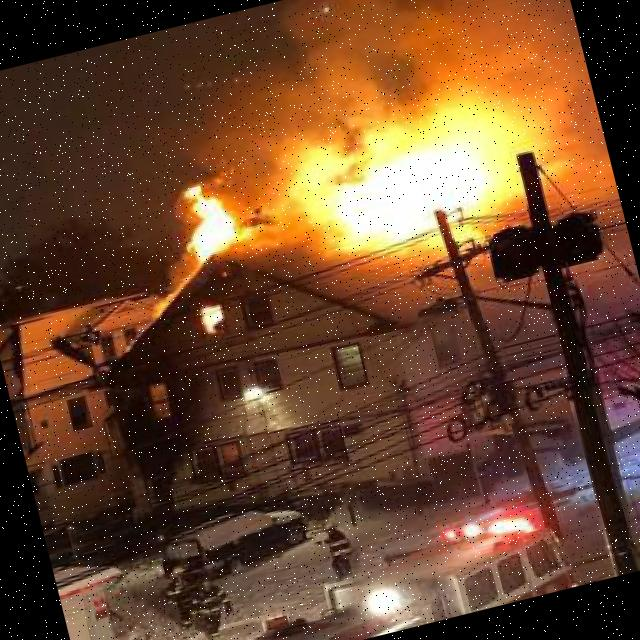fire: (79, 39, 585, 372)
